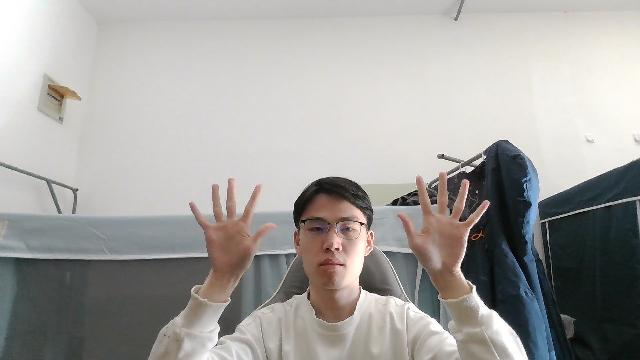five: (398, 170, 490, 277), (188, 175, 278, 281)
